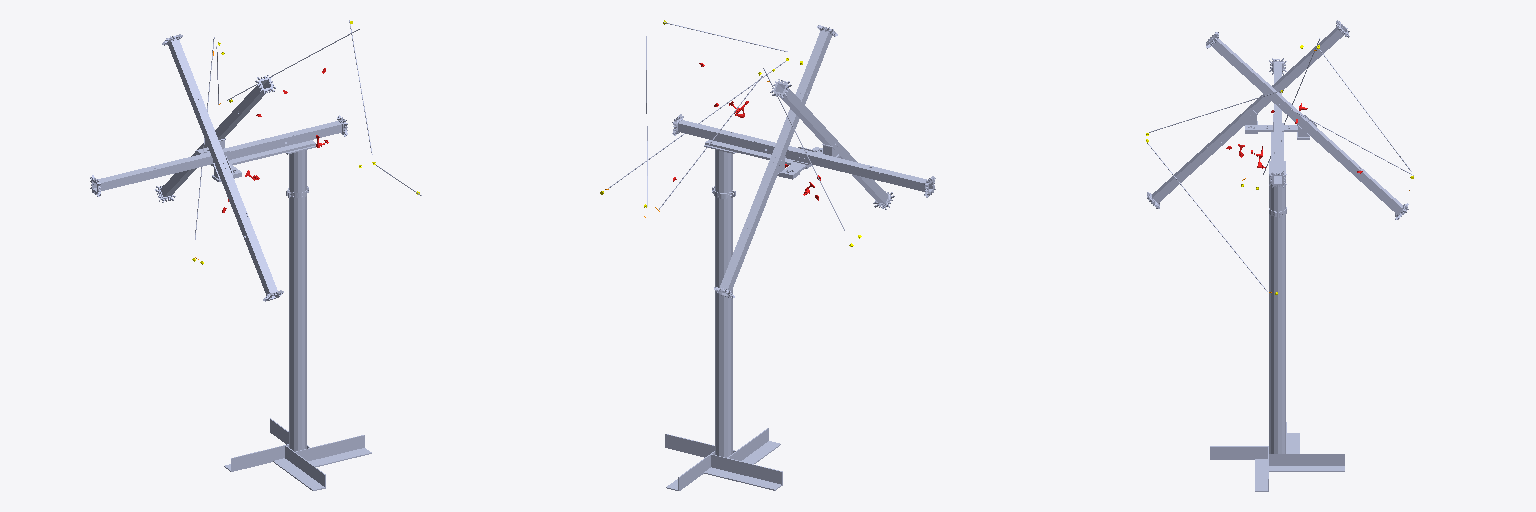
--- What the picture shows (computed from the rendered views, not written in the file) ---
Views: 3 orthographic renders of the robot side by side, from view 1: azimuth 30°, elevation 25°; view 2: azimuth 150°, elevation 25°; view 3: azimuth 270°, elevation 25°.
Model tensegrity with 46 links and 45 joints (18 continuous, 27 fixed), rooted at tensegrity, posed every joint at zero.
Visible links, largest first — view 1: tensegrity; view 2: tensegrity; view 3: tensegrity.
Boxes of the visible links, bbox=[...] form: tensegrity: bbox=[90, 34, 371, 490]; tensegrity: bbox=[665, 25, 935, 490]; tensegrity: bbox=[1147, 20, 1408, 491].
Bounding box of the posed robot: 1.63 × 1.24 × 2.03 m (x, y, z).
30 mesh visuals loaded from 46 distinct referenced files (30 binary STL); not drawn: 16 (reference not matched to a file when rendering).

The robot description file, URDF, robot "tensegrity":
<robot
  name="tensegrity">
  <link
    name="tensegrity">
    <inertial>
      <origin
        xyz="-0.00011921 0.90926 -0.002697"
        rpy="0 0 0" />
      <mass
        value="2.981" />
      <inertia
        ixx="1.5276"
        ixy="-0.0013205"
        ixz="-0.0059941"
        iyy="0.15034"
        iyz="-0.0046967"
        izz="1.5405" />
    </inertial>
    <visual>
      <origin
        xyz="0 0 0"
        rpy="0 0 0" />
      <geometry>
        <mesh
          filename="package://tensegrity/meshes/tensegrity.STL" />
      </geometry>
      <material
        name="">
        <color
          rgba="0.79216 0.81961 0.93333 1" />
      </material>
    </visual>
    <collision>
      <origin
        xyz="0 0 0"
        rpy="0 0 0" />
      <geometry>
        <mesh
          filename="package://tensegrity/meshes/tensegrity.STL" />
      </geometry>
    </collision>
  </link>
  <link
    name="tightener1">
    <inertial>
      <origin
        xyz="-0.0112648807710242 -0.00441342960711993 0.00969743752472763"
        rpy="0 0 0" />
      <mass
        value="0.00856462996419102" />
      <inertia
        ixx="9.48346301710439E-07"
        ixy="4.66685161768178E-07"
        ixz="5.01471138407414E-07"
        iyy="3.0904387326582E-06"
        iyz="1.90238552895536E-07"
        izz="2.84368398126264E-06" />
    </inertial>
    <visual>
      <origin
        xyz="0 0 0"
        rpy="0 0 0" />
      <geometry>
        <mesh
          filename="package://tensegrity/meshes/tightener1.STL" />
      </geometry>
      <material
        name="">
        <color
          rgba="1 0.168627450980392 0.168627450980392 1" />
      </material>
    </visual>
    <collision>
      <origin
        xyz="0 0 0"
        rpy="0 0 0" />
      <geometry>
        <mesh
          filename="package://tensegrity/meshes/tightener1.STL" />
      </geometry>
    </collision>
  </link>
  <joint
    name="tightener1"
    type="fixed">
    <origin
      xyz="-0.00344000000000031 0.325880327868853 1.48698360655738"
      rpy="0.181319774401501 -7.82047468678116E-18 -3.14159265358979" />
    <parent
      link="tensegrity" />
    <child
      link="tightener1" />
    <axis
      xyz="0 0 0" />
  </joint>
  <link
    name="tightener2">
    <inertial>
      <origin
        xyz="-0.0112649023815927 -0.00441338917167422 0.00969744047796228"
        rpy="0 0 0" />
      <mass
        value="0.00856464520084429" />
      <inertia
        ixx="9.48345554667767E-07"
        ixy="4.66676495816711E-07"
        ixz="5.01469301430537E-07"
        iyy="3.09044286567912E-06"
        iyz="1.90238499470868E-07"
        izz="2.84368695035432E-06" />
    </inertial>
    <visual>
      <origin
        xyz="0 0 0"
        rpy="0 0 0" />
      <geometry>
        <mesh
          filename="package://tensegrity/meshes/tightener2.STL" />
      </geometry>
      <material
        name="">
        <color
          rgba="1 0.168627450980392 0.168627450980392 1" />
      </material>
    </visual>
    <collision>
      <origin
        xyz="0 0 0"
        rpy="0 0 0" />
      <geometry>
        <mesh
          filename="package://tensegrity/meshes/tightener2.STL" />
      </geometry>
    </collision>
  </link>
  <joint
    name="tightener2"
    type="fixed">
    <origin
      xyz="-0.363890155785117 -0.0931303799077181 1.34367974595797"
      rpy="-1.82448281699546 0.769136226420718 -0.178410499351035" />
    <parent
      link="tensegrity" />
    <child
      link="tightener2" />
    <axis
      xyz="0 0 0" />
  </joint>
  <link
    name="tightener3">
    <inertial>
      <origin
        xyz="-0.0112649042192459 -0.00441343288623186 0.00969743422688465"
        rpy="0 0 0" />
      <mass
        value="0.00856463183459565" />
      <inertia
        ixx="9.48348547824706E-07"
        ixy="4.66688007253609E-07"
        ixz="5.01471990198078E-07"
        iyy="3.09044823930514E-06"
        iyz="1.90239037244564E-07"
        izz="2.84369551495909E-06" />
    </inertial>
    <visual>
      <origin
        xyz="0 0 0"
        rpy="0 0 0" />
      <geometry>
        <mesh
          filename="package://tensegrity/meshes/tightener3.STL" />
      </geometry>
      <material
        name="">
        <color
          rgba="1 0.168627450980392 0.168627450980392 1" />
      </material>
    </visual>
    <collision>
      <origin
        xyz="0 0 0"
        rpy="0 0 0" />
      <geometry>
        <mesh
          filename="package://tensegrity/meshes/tightener3.STL" />
      </geometry>
    </collision>
  </link>
  <joint
    name="tightener3"
    type="fixed">
    <origin
      xyz="0.00229999999999975 -0.313669508196722 1.60307540983607"
      rpy="1.57079632679489 1.3894765523934 -1.5707963267949" />
    <parent
      link="tensegrity" />
    <child
      link="tightener3" />
    <axis
      xyz="0 0 0" />
  </joint>
  <link
    name="tightener4">
    <inertial>
      <origin
        xyz="-0.0112649039981372 -0.00441345106264546 0.00969743300736448"
        rpy="0 0 0" />
      <mass
        value="0.00856463280589177" />
      <inertia
        ixx="9.48350705657267E-07"
        ixy="4.66692396032689E-07"
        ixz="5.01472185591988E-07"
        iyy="3.09044783790196E-06"
        iyz="1.90239467213095E-07"
        izz="2.8436972436386E-06" />
    </inertial>
    <visual>
      <origin
        xyz="0 0 0"
        rpy="0 0 0" />
      <geometry>
        <mesh
          filename="package://tensegrity/meshes/tightener4.STL" />
      </geometry>
      <material
        name="">
        <color
          rgba="1 0.168627450980392 0.168627450980392 1" />
      </material>
    </visual>
    <collision>
      <origin
        xyz="0 0 0"
        rpy="0 0 0" />
      <geometry>
        <mesh
          filename="package://tensegrity/meshes/tightener4.STL" />
      </geometry>
    </collision>
  </link>
  <joint
    name="tightener4"
    type="fixed">
    <origin
      xyz="-0.257824138607135 -0.0694791309084098 1.44717746777238"
      rpy="1.31710983659433 0.769136226420718 -0.178410499351035" />
    <parent
      link="tensegrity" />
    <child
      link="tightener4" />
    <axis
      xyz="0 0 0" />
  </joint>
  <link
    name="tightener5">
    <inertial>
      <origin
        xyz="-0.0112649434483726 -0.0044133076771109 0.00969746072280242"
        rpy="0 0 0" />
      <mass
        value="0.00856464027785648" />
      <inertia
        ixx="9.48335413159062E-07"
        ixy="4.66656916939348E-07"
        ixz="5.01466109552552E-07"
        iyy="3.09045336216766E-06"
        iyz="1.90235224144574E-07"
        izz="2.84368908467757E-06" />
    </inertial>
    <visual>
      <origin
        xyz="0 0 0"
        rpy="0 0 0" />
      <geometry>
        <mesh
          filename="package://tensegrity/meshes/tightener5.STL" />
      </geometry>
      <material
        name="">
        <color
          rgba="1 0.168627450980392 0.168627450980392 1" />
      </material>
    </visual>
    <collision>
      <origin
        xyz="0 0 0"
        rpy="0 0 0" />
      <geometry>
        <mesh
          filename="package://tensegrity/meshes/tightener5.STL" />
      </geometry>
    </collision>
  </link>
  <joint
    name="tightener5"
    type="fixed">
    <origin
      xyz="0.0949231502555862 -0.00445692737460501 1.79552221432041"
      rpy="-0.785398163397445 0.181319774401482 1.5707963267949" />
    <parent
      link="tensegrity" />
    <child
      link="tightener5" />
    <axis
      xyz="0 0 0" />
  </joint>
  <link
    name="tightener6">
    <inertial>
      <origin
        xyz="-0.0112648753943831 -0.00441343060605381 0.00969743601282979"
        rpy="0 0 0" />
      <mass
        value="0.00856463401560627" />
      <inertia
        ixx="9.48346993966051E-07"
        ixy="4.6668503581095E-07"
        ixz="5.01471107260597E-07"
        iyy="3.09043623385785E-06"
        iyz="1.90238686898362E-07"
        izz="2.84368201569941E-06" />
    </inertial>
    <visual>
      <origin
        xyz="0 0 0"
        rpy="0 0 0" />
      <geometry>
        <mesh
          filename="package://tensegrity/meshes/tightener6.STL" />
      </geometry>
      <material
        name="">
        <color
          rgba="1 0.168627450980392 0.168627450980392 1" />
      </material>
    </visual>
    <collision>
      <origin
        xyz="0 0 0"
        rpy="0 0 0" />
      <geometry>
        <mesh
          filename="package://tensegrity/meshes/tightener6.STL" />
      </geometry>
    </collision>
  </link>
  <joint
    name="tightener6"
    type="fixed">
    <origin
      xyz="-0.00230000000000035 -0.166128524590164 1.5760262295082"
      rpy="-1.5707963267949 1.3894765523934 -1.5707963267949" />
    <parent
      link="tensegrity" />
    <child
      link="tightener6" />
    <axis
      xyz="0 0 0" />
  </joint>
  <link
    name="tightener7">
    <inertial>
      <origin
        xyz="-0.0112648759677147 -0.00441343717059617 0.00969743225970304"
        rpy="0 0 0" />
      <mass
        value="0.00856463670998778" />
      <inertia
        ixx="9.48347440075898E-07"
        ixy="4.66686405885409E-07"
        ixz="5.01471905064636E-07"
        iyy="3.09043582663767E-06"
        iyz="1.90238697252737E-07"
        izz="2.84368197914386E-06" />
    </inertial>
    <visual>
      <origin
        xyz="0 0 0"
        rpy="0 0 0" />
      <geometry>
        <mesh
          filename="package://tensegrity/meshes/tightener7.STL" />
      </geometry>
      <material
        name="">
        <color
          rgba="1 0.168627450980392 0.168627450980392 1" />
      </material>
    </visual>
    <collision>
      <origin
        xyz="0 0 0"
        rpy="0 0 0" />
      <geometry>
        <mesh
          filename="package://tensegrity/meshes/tightener7.STL" />
      </geometry>
    </collision>
  </link>
  <joint
    name="tightener7"
    type="fixed">
    <origin
      xyz="0.0103367651918467 0.0931825265927212 1.66896832686939"
      rpy="-1.31710983659433 0.769136226420716 -2.96318215423875" />
    <parent
      link="tensegrity" />
    <child
      link="tightener7" />
    <axis
      xyz="0 0 0" />
  </joint>
  <link
    name="tightener8">
    <inertial>
      <origin
        xyz="-0.0112649294380098 -0.00441339808548946 0.00969743311534424"
        rpy="0 0 0" />
      <mass
        value="0.00856465792468896" />
      <inertia
        ixx="9.48345449564267E-07"
        ixy="4.66677519510116E-07"
        ixz="5.01470596503683E-07"
        iyy="3.0904483602827E-06"
        iyz="1.90238351816132E-07"
        izz="2.84369196118565E-06" />
    </inertial>
    <visual>
      <origin
        xyz="0 0 0"
        rpy="0 0 0" />
      <geometry>
        <mesh
          filename="package://tensegrity/meshes/tightener8.STL" />
      </geometry>
      <material
        name="">
        <color
          rgba="1 0.168627450980392 0.168627450980392 1" />
      </material>
    </visual>
    <collision>
      <origin
        xyz="0 0 0"
        rpy="0 0 0" />
      <geometry>
        <mesh
          filename="package://tensegrity/meshes/tightener8.STL" />
      </geometry>
    </collision>
  </link>
  <joint
    name="tightener8"
    type="fixed">
    <origin
      xyz="-0.0957292519861357 0.10778459526416 1.77412506507724"
      rpy="1.82448281699547 0.769136226420716 -2.96318215423875" />
    <parent
      link="tensegrity" />
    <child
      link="tightener8" />
    <axis
      xyz="0 0 0" />
  </joint>
  <link
    name="tightener9">
    <inertial>
      <origin
        xyz="-0.0112649161265738 -0.00441336591154351 0.00969745259179455"
        rpy="0 0 0" />
      <mass
        value="0.00856463882730577" />
      <inertia
        ixx="9.48340756137017E-07"
        ixy="4.66670079537862E-07"
        ixz="5.01467287226518E-07"
        iyy="3.09044692123592E-06"
        iyz="1.9023719168397E-07"
        izz="2.84368718796673E-06" />
    </inertial>
    <visual>
      <origin
        xyz="0 0 0"
        rpy="0 0 0" />
      <geometry>
        <mesh
          filename="package://tensegrity/meshes/tightener9.STL" />
      </geometry>
      <material
        name="">
        <color
          rgba="1 0.168627450980392 0.168627450980392 1" />
      </material>
    </visual>
    <collision>
      <origin
        xyz="0 0 0"
        rpy="0 0 0" />
      <geometry>
        <mesh
          filename="package://tensegrity/meshes/tightener9.STL" />
      </geometry>
    </collision>
  </link>
  <joint
    name="tightener9"
    type="fixed">
    <origin
      xyz="0.364696257515673 0.0306936712240358 1.32179820667655"
      rpy="0.785398163397445 0.181319774401485 1.5707963267949" />
    <parent
      link="tensegrity" />
    <child
      link="tightener9" />
    <axis
      xyz="0 0 0" />
  </joint>
  <link
    name="detach1">
    <inertial>
      <origin
        xyz="0.0136167294130277 0.00336313260997943 -0.00458859078875884"
        rpy="0 0 0" />
      <mass
        value="0.00144131652160448" />
      <inertia
        ixx="2.70919111337064E-08"
        ixy="8.31072147902918E-09"
        ixz="-3.60183626082961E-10"
        iyy="7.19839637780113E-08"
        iyz="-9.2838766169693E-11"
        izz="7.6586247123843E-08" />
    </inertial>
    <visual>
      <origin
        xyz="0 0 0"
        rpy="0 0 0" />
      <geometry>
        <mesh
          filename="package://tensegrity/meshes/detach1.STL" />
      </geometry>
      <material
        name="">
        <color
          rgba="1 0.168627450980392 0.168627450980392 1" />
      </material>
    </visual>
    <collision>
      <origin
        xyz="0 0 0"
        rpy="0 0 0" />
      <geometry>
        <mesh
          filename="package://tensegrity/meshes/detach1.STL" />
      </geometry>
    </collision>
  </link>
  <joint
    name="detach"
    type="fixed">
    <origin
      xyz="0.0199999999999996 0.393098360655766 1.49733196721311"
      rpy="0 -0.181319774401501 -1.5707963267949" />
    <parent
      link="tensegrity" />
    <child
      link="detach1" />
    <axis
      xyz="0 0 0" />
  </joint>
  <link
    name="detach2">
    <inertial>
      <origin
        xyz="0.0136167294130276 0.00336313260997945 -0.00458859078875873"
        rpy="0 0 0" />
      <mass
        value="0.00144131652160447" />
      <inertia
        ixx="2.70919111337063E-08"
        ixy="8.3107214790287E-09"
        ixz="-3.60183626082476E-10"
        iyy="7.19839637780106E-08"
        iyz="-9.28387661696905E-11"
        izz="7.65862471238422E-08" />
    </inertial>
    <visual>
      <origin
        xyz="0 0 0"
        rpy="0 0 0" />
      <geometry>
        <mesh
          filename="package://tensegrity/meshes/detach2.STL" />
      </geometry>
      <material
        name="">
        <color
          rgba="1 0.168627450980392 0.168627450980392 1" />
      </material>
    </visual>
    <collision>
      <origin
        xyz="0 0 0"
        rpy="0 0 0" />
      <geometry>
        <mesh
          filename="package://tensegrity/meshes/detach2.STL" />
      </geometry>
    </collision>
  </link>
  <joint
    name="detach2"
    type="fixed">
    <origin
      xyz="-0.421300155349653 -0.0844233171255465 1.31741827022436"
      rpy="1.31710983659433 -0.769136226420714 0.178410499351039" />
    <parent
      link="tensegrity" />
    <child
      link="detach2" />
    <axis
      xyz="0 0 0" />
  </joint>
  <link
    name="detach3">
    <inertial>
      <origin
        xyz="0.0136167294130276 0.00336313260997922 -0.00458859078875878"
        rpy="0 0 0" />
      <mass
        value="0.00144131652160448" />
      <inertia
        ixx="2.70919111337066E-08"
        ixy="8.31072147902923E-09"
        ixz="-3.60183626082459E-10"
        iyy="7.19839637780121E-08"
        iyz="-9.28387661696791E-11"
        izz="7.65862471238438E-08" />
    </inertial>
    <visual>
      <origin
        xyz="0 0 0"
        rpy="0 0 0" />
      <geometry>
        <mesh
          filename="package://tensegrity/meshes/detach3.STL" />
      </geometry>
      <material
        name="">
        <color
          rgba="1 0.168627450980392 0.168627450980392 1" />
      </material>
    </visual>
    <collision>
      <origin
        xyz="0 0 0"
        rpy="0 0 0" />
      <geometry>
        <mesh
          filename="package://tensegrity/meshes/detach3.STL" />
      </geometry>
    </collision>
  </link>
  <joint
    name="detach3"
    type="fixed">
    <origin
      xyz="-0.0110000000000003 -0.366245901639344 1.63654508196721"
      rpy="1.5707963267949 0.181319774401488 1.5707963267949" />
    <parent
      link="tensegrity" />
    <child
      link="detach3" />
    <axis
      xyz="0 0 0" />
  </joint>
  <link
    name="detach4">
    <inertial>
      <origin
        xyz="0.0136167294130274 0.00336313260997922 -0.00458859078875884"
        rpy="0 0 0" />
      <mass
        value="0.00144131652160448" />
      <inertia
        ixx="2.70919111337063E-08"
        ixy="8.31072147902876E-09"
        ixz="-3.60183626082373E-10"
        iyy="7.1983963778011E-08"
        iyz="-9.28387661697079E-11"
        izz="7.65862471238426E-08" />
    </inertial>
    <visual>
      <origin
        xyz="0 0 0"
        rpy="0 0 0" />
      <geometry>
        <mesh
          filename="package://tensegrity/meshes/detach4.STL" />
      </geometry>
      <material
        name="">
        <color
          rgba="1 0.168627450980392 0.168627450980392 1" />
      </material>
    </visual>
    <collision>
      <origin
        xyz="0 0 0"
        rpy="0 0 0" />
      <geometry>
        <mesh
          filename="package://tensegrity/meshes/detach4.STL" />
      </geometry>
    </collision>
  </link>
  <joint
    name="detach4"
    type="fixed">
    <origin
      xyz="-0.32831561362362 -0.09814741615855 1.41446863913521"
      rpy="1.31710983659433 -0.769136226420712 0.178410499351048" />
    <parent
      link="tensegrity" />
    <child
      link="detach4" />
    <axis
      xyz="0 0 0" />
  </joint>
  <link
    name="detach5">
    <inertial>
      <origin
        xyz="0.0136167294130281 0.00336313260997945 -0.00458859078875862"
        rpy="0 0 0" />
      <mass
        value="0.00144131652160446" />
      <inertia
        ixx="2.7091911133706E-08"
        ixy="8.31072147902945E-09"
        ixz="-3.60183626082276E-10"
        iyy="7.19839637780109E-08"
        iyz="-9.28387661698013E-11"
        izz="7.65862471238428E-08" />
    </inertial>
    <visual>
      <origin
        xyz="0 0 0"
        rpy="0 0 0" />
      <geometry>
        <mesh
          filename="package://tensegrity/meshes/detach5.STL" />
      </geometry>
      <material
        name="">
        <color
          rgba="1 0.168627450980392 0.168627450980392 1" />
      </material>
    </visual>
    <collision>
      <origin
        xyz="0 0 0"
        rpy="0 0 0" />
      <geometry>
        <mesh
          filename="package://tensegrity/meshes/detach5.STL" />
      </geometry>
    </collision>
  </link>
  <joint
    name="detach5"
    type="fixed">
    <origin
      xyz="0.124586279726341 -0.0164765829315123 1.85994591128273"
      rpy="0.253686490200554 0.769136226420711 -2.96318215423876" />
    <parent
      link="tensegrity" />
    <child
      link="detach5" />
    <axis
      xyz="0 0 0" />
  </joint>
  <link
    name="detach6">
    <inertial>
      <origin
        xyz="0.0136167294130276 0.00336313260997922 -0.00458859078875878"
        rpy="0 0 0" />
      <mass
        value="0.00144131652160448" />
      <inertia
        ixx="2.70919111337065E-08"
        ixy="8.31072147902921E-09"
        ixz="-3.60183626082485E-10"
        iyy="7.19839637780119E-08"
        iyz="-9.28387661696828E-11"
        izz="7.65862471238436E-08" />
    </inertial>
    <visual>
      <origin
        xyz="0 0 0"
        rpy="0 0 0" />
      <geometry>
        <mesh
          filename="package://tensegrity/meshes/detach6.STL" />
      </geometry>
      <material
        name="">
        <color
          rgba="1 0.168627450980392 0.168627450980392 1" />
      </material>
    </visual>
    <collision>
      <origin
        xyz="0 0 0"
        rpy="0 0 0" />
      <geometry>
        <mesh
          filename="package://tensegrity/meshes/detach6.STL" />
      </geometry>
    </collision>
  </link>
  <joint
    name="detach6"
    type="fixed">
    <origin
      xyz="0.0199999999999994 -0.236901639344262 1.61283196721312"
      rpy="1.5707963267949 0.181319774401488 1.5707963267949" />
    <parent
      link="tensegrity" />
    <child
      link="detach6" />
    <axis
      xyz="0 0 0" />
  </joint>
  <link
    name="detach7">
    <inertial>
      <origin
        xyz="0.0136167294130278 0.00336313260997945 -0.00458859078875884"
        rpy="0 0 0" />
      <mass
        value="0.00144131652160447" />
      <inertia
        ixx="2.70919111337062E-08"
        ixy="8.31072147902913E-09"
        ixz="-3.60183626082342E-10"
        iyy="7.19839637780109E-08"
        iyz="-9.283876616965E-11"
        izz="7.65862471238425E-08" />
    </inertial>
    <visual>
      <origin
        xyz="0 0 0"
        rpy="0 0 0" />
      <geometry>
        <mesh
          filename="package://tensegrity/meshes/detach7.STL" />
      </geometry>
      <material
        name="">
        <color
          rgba="1 0.168627450980392 0.168627450980392 1" />
      </material>
    </visual>
    <collision>
      <origin
        xyz="0 0 0"
        rpy="0 0 0" />
      <geometry>
        <mesh
          filename="package://tensegrity/meshes/detach7.STL" />
      </geometry>
    </collision>
  </link>
  <joint
    name="detach7"
    type="fixed">
    <origin
      xyz="-0.0270055439226141 0.0839596778251951 1.74232551541019"
      rpy="1.31710983659433 0.769136226420715 -0.178410499351034" />
    <parent
      link="tensegrity" />
    <child
      link="detach7" />
    <axis
      xyz="0 0 0" />
  </joint>
  <link
    name="detach8">
    <inertial>
      <origin
        xyz="0.0136167294130274 0.00336313260997989 -0.0045885907887587"
        rpy="0 0 0" />
      <mass
        value="0.00144131652160447" />
      <inertia
        ixx="2.70919111337062E-08"
        ixy="8.31072147902917E-09"
        ixz="-3.60183626082354E-10"
        iyy="7.1983963778011E-08"
        iyz="-9.28387661696508E-11"
        izz="7.65862471238426E-08" />
    </inertial>
    <visual>
      <origin
        xyz="0 0 0"
        rpy="0 0 0" />
      <geometry>
        <mesh
          filename="package://tensegrity/meshes/detach8.STL" />
      </geometry>
      <material
        name="">
        <color
          rgba="1 0.168627450980392 0.168627450980392 1" />
      </material>
    </visual>
    <collision>
      <origin
        xyz="0 0 0"
        rpy="0 0 0" />
      <geometry>
        <mesh
          filename="package://tensegrity/meshes/detach8.STL" />
      </geometry>
    </collision>
  </link>
  <joint
    name="detach8"
    type="fixed">
    <origin
      xyz="-0.119990085648646 0.131219185349568 1.82819555645219"
      rpy="1.31710983659433 0.769136226420715 -0.178410499351032" />
    <parent
      link="tensegrity" />
    <child
      link="detach8" />
    <axis
      xyz="0 0 0" />
  </joint>
  <link
    name="detach9">
    <inertial>
      <origin
        xyz="0.0136167294130276 0.00336313260997939 -0.00458859078875884"
        rpy="0 0 0" />
      <mass
        value="0.00144131652160446" />
      <inertia
        ixx="2.70919111337059E-08"
        ixy="8.3107214790288E-09"
        ixz="-3.60183626082324E-10"
        iyy="7.19839637780106E-08"
        iyz="-9.28387661697062E-11"
        izz="7.65862471238425E-08" />
    </inertial>
    <visual>
      <origin
        xyz="0 0 0"
        rpy="0 0 0" />
      <geometry>
        <mesh
          filename="package://tensegrity/meshes/detach9.STL" />
      </geometry>
      <material
        name="">
        <color
          rgba="1 0.168627450980392 0.168627450980392 1" />
      </material>
    </visual>
    <collision>
      <origin
        xyz="0 0 0"
        rpy="0 0 0" />
      <geometry>
        <mesh
          filename="package://tensegrity/meshes/detach9.STL" />
      </geometry>
    </collision>
  </link>
  <joint
    name="detach9"
    type="fixed">
    <origin
      xyz="0.425896349427369 0.00228884459815839 1.29684824326267"
      rpy="0.253686490200553 -0.769136226420708 2.96318215423877" />
    <parent
      link="tensegrity" />
    <child
      link="detach9" />
    <axis
      xyz="0 0 0" />
  </joint>
  <link
    name="attach1">
    <inertial>
      <origin
        xyz="2.22044604925031E-16 0.0109071136700519 0.000188401460229581"
        rpy="0 0 0" />
      <mass
        value="0.000125397117258045" />
      <inertia
        ixx="5.17034833783075E-09"
        ixy="-1.86487222865227E-23"
        ixz="7.23783035983899E-25"
        iyy="1.14975031600388E-10"
        iyz="-9.61806045495618E-12"
        izz="5.17479932232868E-09" />
    </inertial>
    <visual>
      <origin
        xyz="0 0 0"
        rpy="0 0 0" />
      <geometry>
        <mesh
          filename="package://tensegrity/meshes/attach1.STL" />
      </geometry>
      <material
        name="">
        <color
          rgba="1 0.549019607843137 0 1" />
      </material>
    </visual>
    <collision>
      <origin
        xyz="0 0 0"
        rpy="0 0 0" />
      <geometry>
        <mesh
          filename="package://tensegrity/meshes/attach1.STL" />
      </geometry>
    </collision>
  </link>
  <joint
    name="attach1"
    type="fixed">
    <origin
      xyz="0.318156761076164 0.0650930969857314 1.97852563931339"
      rpy="-0.531711673196898 0.769136226420716 -2.96318215423882" />
    <parent
      link="tensegrity" />
    <child
      link="attach1" />
    <axis
      xyz="0 0 0" />
  </joint>
  <link
    name="attach2">
    <inertial>
      <origin
        xyz="-2.22044604925031E-16 0.0109071136700518 0.00018840146022947"
        rpy="0 0 0" />
      <mass
        value="0.000125397117258046" />
      <inertia
        ixx="5.1703483378308E-09"
        ixy="-3.02268274815642E-23"
        ixz="1.57681304267921E-24"
        iyy="1.1497503160039E-10"
        iyz="-9.61806045494411E-12"
        izz="5.17479932232872E-09" />
    </inertial>
    <visual>
      <origin
        xyz="0 0 0"
        rpy="0 0 0" />
      <geometry>
        <mesh
          filename="package://tensegrity/meshes/attach2.STL" />
      </geometry>
      <material
        name="">
        <color
          rgba="1 0.549019607843137 0 1" />
      </material>
    </visual>
    <collision>
      <origin
        xyz="0 0 0"
        rpy="0 0 0" />
      <geometry>
        <mesh
          filename="package://tensegrity/meshes/attach2.STL" />
      </geometry>
    </collision>
  </link>
  <joint
    name="attach2"
    type="fixed">
    <origin
      xyz="-0.328656761076175 0.166626629046522 1.94923615843558"
      rpy="0.531711673196865 0.769136226420715 -0.178410499351044" />
    <parent
      link="tensegrity" />
    <child
      link="attach2" />
    <axis
      xyz="0 0 0" />
  </joint>
  <link
    name="attach3">
    <inertial>
      <origin
        xyz="2.77555756156289E-16 0.0109071136700518 0.000188401460229803"
        rpy="0 0 0" />
      <mass
        value="0.000125397117258043" />
      <inertia
        ixx="5.17034833783068E-09"
        ixy="4.63826988204905E-23"
        ixz="-2.58493941422821E-26"
        iyy="1.14975031600383E-10"
        iyz="-9.61806045500749E-12"
        izz="5.1747993223286E-09" />
    </inertial>
    <visual>
      <origin
        xyz="0 0 0"
        rpy="0 0 0" />
      <geometry>
        <mesh
          filename="package://tensegrity/meshes/attach3.STL" />
      </geometry>
      <material
        name="">
        <color
          rgba="1 0.549019607843137 0 1" />
      </material>
    </visual>
    <collision>
      <origin
        xyz="0 0 0"
        rpy="0 0 0" />
      <geometry>
        <mesh
          filename="package://tensegrity/meshes/attach3.STL" />
      </geometry>
    </collision>
  </link>
  <joint
    name="attach3"
    type="fixed">
    <origin
      xyz="-0.601682559529722 -0.146570547440898 1.17252428668608"
      rpy="-2.6098809803929 -0.769136226420708 0.178410499351032" />
    <parent
      link="tensegrity" />
    <child
      link="attach3" />
    <axis
      xyz="0 0 0" />
  </joint>
  <link
    name="attach4">
    <inertial>
      <origin
        xyz="2.22044604925031E-16 0.0109071136700517 0.00018840146022947"
        rpy="0 0 0" />
      <mass
        value="0.000125397117258046" />
      <inertia
        ixx="5.1703483378308E-09"
        ixy="-2.83293203928073E-24"
        ixz="-8.78879400837592E-25"
        iyy="1.1497503160039E-10"
        iyz="-9.61806045498025E-12"
        izz="5.17479932232872E-09" />
    </inertial>
    <visual>
      <origin
        xyz="0 0 0"
        rpy="0 0 0" />
      <geometry>
        <mesh
          filename="package://tensegrity/meshes/attach4.STL" />
      </geometry>
      <material
        name="">
        <color
          rgba="1 0.549019607843137 0 1" />
      </material>
    </visual>
    <collision>
      <origin
        xyz="0 0 0"
        rpy="0 0 0" />
      <geometry>
        <mesh
          filename="package://tensegrity/meshes/attach4.STL" />
      </geometry>
    </collision>
  </link>
  <joint
    name="attach4"
    type="fixed">
    <origin
      xyz="0.546741434032771 -0.0384451766288569 1.09684449111531"
      rpy="1.03908465359801 -0.769136226420713 2.96318215423876" />
    <parent
      link="tensegrity" />
    <child
      link="attach4" />
    <axis
      xyz="0 0 0" />
  </joint>
  <link
    name="attach5">
    <inertial>
      <origin
        xyz="2.22044604925031E-16 0.010907113670052 0.000188401460230025"
        rpy="0 0 0" />
      <mass
        value="0.000125397117258043" />
      <inertia
        ixx="5.17034833783069E-09"
        ixy="2.18088107204166E-23"
        ixz="-2.11965031966713E-24"
        iyy="1.14975031600384E-10"
        iyz="-9.61806045496579E-12"
        izz="5.17479932232862E-09" />
    </inertial>
    <visual>
      <origin
        xyz="0 0 0"
        rpy="0 0 0" />
      <geometry>
        <mesh
          filename="package://tensegrity/meshes/attach5.STL" />
      </geometry>
      <material
        name="">
        <color
          rgba="1 0.549019607843137 0 1" />
      </material>
    </visual>
    <collision>
      <origin
        xyz="0 0 0"
        rpy="0 0 0" />
      <geometry>
        <mesh
          filename="package://tensegrity/meshes/attach5.STL" />
      </geometry>
    </collision>
  </link>
  <joint
    name="attach5"
    type="fixed">
    <origin
      xyz="0.0239999999999999 -0.59522390710731 1.69768777941467"
      rpy="-2.35619449019234 0.181319774401499 1.5707963267949" />
    <parent
      link="tensegrity" />
    <child
      link="attach5" />
    <axis
      xyz="0 0 0" />
  </joint>
  <link
    name="attach6">
    <inertial>
      <origin
        xyz="1.11022302462516E-16 0.0109071136700518 0.000188401460229581"
        rpy="0 0 0" />
      <mass
        value="0.000125397117258046" />
      <inertia
        ixx="5.17034833783079E-09"
        ixy="1.59700788185287E-23"
        ixz="9.56427583264438E-25"
        iyy="1.14975031600391E-10"
        iyz="-9.61806045501363E-12"
        izz="5.17479932232872E-09" />
    </inertial>
    <visual>
      <origin
        xyz="0 0 0"
        rpy="0 0 0" />
      <geometry>
        <mesh
          filename="package://tensegrity/meshes/attach6.STL" />
      </geometry>
      <material
        name="">
        <color
          rgba="1 0.549019607843137 0 1" />
      </material>
    </visual>
    <collision>
      <origin
        xyz="0 0 0"
        rpy="0 0 0" />
      <geometry>
        <mesh
          filename="package://tensegrity/meshes/attach6.STL" />
      </geometry>
    </collision>
  </link>
  <joint
    name="attach6"
    type="fixed">
    <origin
      xyz="0.591182559529726 -0.0450370153801445 1.14323480580828"
      rpy="2.60988098039293 -0.769136226420713 2.96318215423875" />
    <parent
      link="tensegrity" />
    <child
      link="attach6" />
    <axis
      xyz="0 0 0" />
  </joint>
  <link
    name="attach7">
    <inertial>
      <origin
        xyz="2.22044604925031E-16 0.0109071136700523 0.000188401460229803"
        rpy="0 0 0" />
      <mass
        value="0.000125397117258042" />
      <inertia
        ixx="5.17034833783066E-09"
        ixy="2.66515331542598E-23"
        ixz="-5.32497519331012E-24"
        iyy="1.14975031600382E-10"
        iyz="-9.61806045495434E-12"
        izz="5.17479932232859E-09" />
    </inertial>
    <visual>
      <origin
        xyz="0 0 0"
        rpy="0 0 0" />
      <geometry>
        <mesh
          filename="package://tensegrity/meshes/attach7.STL" />
      </geometry>
      <material
        name="">
        <color
          rgba="1 0.549019607843137 0 1" />
      </material>
    </visual>
    <collision>
      <origin
        xyz="0 0 0"
        rpy="0 0 0" />
      <geometry>
        <mesh
          filename="package://tensegrity/meshes/attach7.STL" />
      </geometry>
    </collision>
  </link>
  <joint
    name="attach7"
    type="fixed">
    <origin
      xyz="0.273715635579209 0.0585012582344451 2.02491595400636"
      rpy="-2.10250799999181 0.769136226420727 -2.96318215423883" />
    <parent
      link="tensegrity" />
    <child
      link="attach7" />
    <axis
      xyz="0 0 0" />
  </joint>
  <link
    name="attach8">
    <inertial>
      <origin
        xyz="5.55111512312578E-17 0.0109071136700518 0.000188401460229581"
        rpy="0 0 0" />
      <mass
        value="0.000125397117258044" />
      <inertia
        ixx="5.1703483378307E-09"
        ixy="-2.10801809230311E-23"
        ixz="-1.55096364853693E-24"
        iyy="1.14975031600387E-10"
        iyz="-9.61806045495977E-12"
        izz="5.17479932232863E-09" />
    </inertial>
    <visual>
      <origin
        xyz="0 0 0"
        rpy="0 0 0" />
      <geometry>
        <mesh
          filename="package://tensegrity/meshes/attach8.STL" />
      </geometry>
      <material
        name="">
        <color
          rgba="1 0.549019607843137 0 1" />
      </material>
    </visual>
    <collision>
      <origin
        xyz="0 0 0"
        rpy="0 0 0" />
      <geometry>
        <mesh
          filename="package://tensegrity/meshes/attach8.STL" />
      </geometry>
    </collision>
  </link>
  <joint
    name="attach8"
    type="fixed">
    <origin
      xyz="-0.0240000000000005 0.622481010925478 1.47444187777533"
      rpy="-2.35619449019234 -0.181319774401499 -1.5707963267949" />
    <parent
      link="tensegrity" />
    <child
      link="attach8" />
    <axis
      xyz="0 0 0" />
  </joint>
  <link
    name="attach9">
    <inertial>
      <origin
        xyz="2.22044604925031E-16 0.0109071136700516 0.000188401460229359"
        rpy="0 0 0" />
      <mass
        value="0.000125397117258043" />
      <inertia
        ixx="5.17034833783069E-09"
        ixy="2.35811098062969E-23"
        ixz="-1.96455395481344E-24"
        iyy="1.14975031600384E-10"
        iyz="-9.61806045496332E-12"
        izz="5.17479932232862E-09" />
    </inertial>
    <visual>
      <origin
        xyz="0 0 0"
        rpy="0 0 0" />
      <geometry>
        <mesh
          filename="package://tensegrity/meshes/attach9.STL" />
      </geometry>
      <material
        name="">
        <color
          rgba="1 0.549019607843137 0 1" />
      </material>
    </visual>
    <collision>
      <origin
        xyz="0 0 0"
        rpy="0 0 0" />
      <geometry>
        <mesh
          filename="package://tensegrity/meshes/attach9.STL" />
      </geometry>
    </collision>
  </link>
  <joint
    name="attach9"
    type="fixed">
    <origin
      xyz="0.0239999999999996 0.608469808746655 1.39801713861811"
      rpy="0.785398163397449 -0.181319774401489 -1.57079632679489" />
    <parent
      link="tensegrity" />
    <child
      link="attach9" />
    <axis
      xyz="0 0 0" />
  </joint>
  <link
    name="pulley1">
    <inertial>
      <origin
        xyz="4.44089209850063E-16 0 0.000250000000000349"
        rpy="0 0 0" />
      <mass
        value="0.00115149136839394" />
      <inertia
        ixx="2.47202230080769E-08"
        ixy="-2.8951321439356E-24"
        ixz="-7.47137288100798E-25"
        iyy="2.47202230080769E-08"
        iyz="-2.91978752122891E-25"
        izz="2.72844075510586E-08" />
    </inertial>
    <visual>
      <origin
        xyz="0 0 0"
        rpy="0 0 0" />
      <geometry>
        <mesh
          filename="package://tensegrity/meshes/pulley1.STL" />
      </geometry>
      <material
        name="">
        <color
          rgba="1 1 0 1" />
      </material>
    </visual>
    <collision>
      <origin
        xyz="0 0 0"
        rpy="0 0 0" />
      <geometry>
        <mesh
          filename="package://tensegrity/meshes/pulley1.STL" />
      </geometry>
    </collision>
  </link>
  <joint
    name="pulley1"
    type="continuous">
    <origin
      xyz="0 0.621786885245901 1.47065573770492"
      rpy="1.5707963267949 -1.35303842246507 -1.5707963267949" />
    <parent
      link="tensegrity" />
    <child
      link="pulley1" />
    <axis
      xyz="0 0 1" />
  </joint>
  <link
    name="pulley2">
    <inertial>
      <origin
        xyz="-1.11022302462516E-16 0 0.00132017230202797"
        rpy="0 0 0" />
      <mass
        value="0.00115149136839393" />
      <inertia
        ixx="2.47202230080765E-08"
        ixy="1.65436122510606E-24"
        ixz="9.18170479933861E-23"
        iyy="2.47202230080765E-08"
        iyz="-6.762201507621E-23"
        izz="2.72844075510583E-08" />
    </inertial>
    <visual>
      <origin
        xyz="0 0 0"
        rpy="0 0 0" />
      <geometry>
        <mesh
          filename="package://tensegrity/meshes/pulley2.STL" />
      </geometry>
      <material
        name="">
        <color
          rgba="1 1 0 1" />
      </material>
    </visual>
    <collision>
      <origin
        xyz="0 0 0"
        rpy="0 0 0" />
      <geometry>
        <mesh
          filename="package://tensegrity/meshes/pulley2.STL" />
      </geometry>
    </collision>
  </link>
  <joint
    name="pulley2"
    type="continuous">
    <origin
      xyz="-0.573455270689443 -0.0936279273956821 1.13412039602351"
      rpy="0.631420863095884 0.532284485238217 -2.35588130681373" />
    <parent
      link="tensegrity" />
    <child
      link="pulley2" />
    <axis
      xyz="0 0 1" />
  </joint>
  <link
    name="pulley3">
    <inertial>
      <origin
        xyz="-5.55111512312578E-17 0 -0.00444107766729385"
        rpy="0 0 0" />
      <mass
        value="0.00115149136839394" />
      <inertia
        ixx="2.47202230080766E-08"
        ixy="4.13590306276514E-24"
        ixz="-4.11522354745131E-23"
        iyy="2.47202230080766E-08"
        iyz="-2.35746474577613E-23"
        izz="2.72844075510585E-08" />
    </inertial>
    <visual>
      <origin
        xyz="0 0 0"
        rpy="0 0 0" />
      <geometry>
        <mesh
          filename="package://tensegrity/meshes/pulley3.STL" />
      </geometry>
      <material
        name="">
        <color
          rgba="1 1 0 1" />
      </material>
    </visual>
    <collision>
      <origin
        xyz="0 0 0"
        rpy="0 0 0" />
      <geometry>
        <mesh
          filename="package://tensegrity/meshes/pulley3.STL" />
      </geometry>
    </collision>
  </link>
  <joint
    name="pulley3"
    type="continuous">
    <origin
      xyz="-0.0350000000000004 -0.60298527630066 1.65535303836004"
      rpy="2.98449472353879 -0.0909133937987541 -0.520440071048006" />
    <parent
      link="tensegrity" />
    <child
      link="pulley3" />
    <axis
      xyz="0 0 1" />
  </joint>
  <link
    name="pulley4">
    <inertial>
      <origin
        xyz="-2.77555756156289E-17 0 0.0017312900597426"
        rpy="0 0 0" />
      <mass
        value="0.00115149136839396" />
      <inertia
        ixx="2.47202230080774E-08"
        ixy="0"
        ixz="9.92616735063633E-24"
        iyy="2.47202230080774E-08"
        iyz="2.54358038360056E-23"
        izz="2.72844075510591E-08" />
    </inertial>
    <visual>
      <origin
        xyz="0 0 0"
        rpy="0 0 0" />
      <geometry>
        <mesh
          filename="package://tensegrity/meshes/pulley4.STL" />
      </geometry>
      <material
        name="">
        <color
          rgba="1 1 0 1" />
      </material>
    </visual>
    <collision>
      <origin
        xyz="0 0 0"
        rpy="0 0 0" />
      <geometry>
        <mesh
          filename="package://tensegrity/meshes/pulley4.STL" />
      </geometry>
    </collision>
  </link>
  <joint
    name="pulley4"
    type="continuous">
    <origin
      xyz="-0.572811013144504 -0.162596564002146 1.14610965089734"
      rpy="0.745639043009377 0.327890658213947 -2.08475010947139" />
    <parent
      link="tensegrity" />
    <child
      link="pulley4" />
    <axis
      xyz="0 0 1" />
  </joint>
  <link
    name="pulley5">
    <inertial>
      <origin
        xyz="1.11022302462516E-16 0 0.00833008632750148"
        rpy="0 0 0" />
      <mass
        value="0.00115149136839394" />
      <inertia
        ixx="2.47202230080768E-08"
        ixy="-9.56427583264438E-25"
        ixz="4.4254162771587E-23"
        iyy="2.47202230080769E-08"
        iyz="-4.01182597088218E-23"
        izz="2.72844075510586E-08" />
    </inertial>
    <visual>
      <origin
        xyz="0 0 0"
        rpy="0 0 0" />
      <geometry>
        <mesh
          filename="package://tensegrity/meshes/pulley5.STL" />
      </geometry>
      <material
        name="">
        <color
          rgba="1 1 0 1" />
      </material>
    </visual>
    <collision>
      <origin
        xyz="0 0 0"
        rpy="0 0 0" />
      <geometry>
        <mesh
          filename="package://tensegrity/meshes/pulley5.STL" />
      </geometry>
    </collision>
  </link>
  <joint
    name="pulley5"
    type="continuous">
    <origin
      xyz="0.276437460986168 0.0428433090569649 2.02501938885851"
      rpy="1.36772787967172 0.464271853741143 -0.0919392370595983" />
    <parent
      link="tensegrity" />
    <child
      link="pulley5" />
    <axis
      xyz="0 0 -1" />
  </joint>
  <link
    name="pulley6">
    <inertial>
      <origin
        xyz="-2.22044604925031E-16 5.55111512312578E-17 -0.00444107766729407"
        rpy="0 0 0" />
      <mass
        value="0.00115149136839394" />
      <inertia
        ixx="2.47202230080766E-08"
        ixy="4.13590306276514E-25"
        ixz="5.62482816536059E-23"
        iyy="2.47202230080766E-08"
        iyz="-3.6189151799195E-24"
        izz="2.72844075510585E-08" />
    </inertial>
    <visual>
      <origin
        xyz="0 0 0"
        rpy="0 0 0" />
      <geometry>
        <mesh
          filename="package://tensegrity/meshes/pulley6.STL" />
      </geometry>
      <material
        name="">
        <color
          rgba="1 1 0 1" />
      </material>
    </visual>
    <collision>
      <origin
        xyz="0 0 0"
        rpy="0 0 0" />
      <geometry>
        <mesh
          filename="package://tensegrity/meshes/pulley6.STL" />
      </geometry>
    </collision>
  </link>
  <joint
    name="pulley6"
    type="continuous">
    <origin
      xyz="0.0349999999999996 -0.603075440235086 1.65486123508135"
      rpy="3.12170686669581 0.180237919378081 1.4603031742211" />
    <parent
      link="tensegrity" />
    <child
      link="pulley6" />
    <axis
      xyz="0 0 1" />
  </joint>
  <link
    name="pulley7">
    <inertial>
      <origin
        xyz="-1.66533453693773E-16 -4.44089209850063E-16 -0.0125123427321154"
        rpy="0 0 0" />
      <mass
        value="0.00115149136839396" />
      <inertia
        ixx="2.47202230080772E-08"
        ixy="-4.13590306276514E-25"
        ixz="-6.20385459414771E-24"
        iyy="2.47202230080772E-08"
        iyz="-5.88849198561187E-23"
        izz="2.7284407551059E-08" />
    </inertial>
    <visual>
      <origin
        xyz="0 0 0"
        rpy="0 0 0" />
      <geometry>
        <mesh
          filename="package://tensegrity/meshes/pulley7.STL" />
      </geometry>
      <material
        name="">
        <color
          rgba="1 1 0 1" />
      </material>
    </visual>
    <collision>
      <origin
        xyz="0 0 0"
        rpy="0 0 0" />
      <geometry>
        <mesh
          filename="package://tensegrity/meshes/pulley7.STL" />
      </geometry>
    </collision>
  </link>
  <joint
    name="pulley7"
    type="continuous">
    <origin
      xyz="-0.310210537417404 0.111920210362038 1.97801932924749"
      rpy="2.37738677488523 -0.271358663823417 -1.66506917334562" />
    <parent
      link="tensegrity" />
    <child
      link="pulley7" />
    <axis
      xyz="0 0 1" />
  </joint>
  <link
    name="pulley8">
    <inertial>
      <origin
        xyz="-8.32667268468867E-17 4.44089209850063E-16 0.0120479426214357"
        rpy="0 0 0" />
      <mass
        value="0.00115149136839396" />
      <inertia
        ixx="2.47202230080772E-08"
        ixy="0"
        ixz="4.96308367531817E-24"
        iyy="2.47202230080772E-08"
        iyz="4.85968609874904E-23"
        izz="2.7284407551059E-08" />
    </inertial>
    <visual>
      <origin
        xyz="0 0 0"
        rpy="0 0 0" />
      <geometry>
        <mesh
          filename="package://tensegrity/meshes/pulley8.STL" />
      </geometry>
      <material
        name="">
        <color
          rgba="1 1 0 1" />
      </material>
    </visual>
    <collision>
      <origin
        xyz="0 0 0"
        rpy="0 0 0" />
      <geometry>
        <mesh
          filename="package://tensegrity/meshes/pulley8.STL" />
      </geometry>
    </collision>
  </link>
  <joint
    name="pulley8"
    type="continuous">
    <origin
      xyz="-0.309528603559366 0.18089564105775 1.96606713304228"
      rpy="0.780417755714486 0.206550528203247 1.54495729002601" />
    <parent
      link="tensegrity" />
    <child
      link="pulley8" />
    <axis
      xyz="0 0 -1" />
  </joint>
  <link
    name="pulley9">
    <inertial>
      <origin
        xyz="0 2.22044604925031E-16 0.00741057511421686"
        rpy="0 0 0" />
      <mass
        value="0.00115149136839394" />
      <inertia
        ixx="2.47202230080768E-08"
        ixy="1.45659194336286E-25"
        ixz="-8.49117287487946E-24"
        iyy="2.47202230080768E-08"
        iyz="-1.14150924532318E-22"
        izz="2.72844075510586E-08" />
    </inertial>
    <visual>
      <origin
        xyz="0 0 0"
        rpy="0 0 0" />
      <geometry>
        <mesh
          filename="package://tensegrity/meshes/pulley9.STL" />
      </geometry>
      <material
        name="">
        <color
          rgba="1 1 0 1" />
      </material>
    </visual>
    <collision>
      <origin
        xyz="0 0 0"
        rpy="0 0 0" />
      <geometry>
        <mesh
          filename="package://tensegrity/meshes/pulley9.STL" />
      </geometry>
    </collision>
  </link>
  <joint
    name="pulley9"
    type="continuous">
    <origin
      xyz="0.598960734122778 0.0021129677620136 1.14249845306849"
      rpy="1.3894765523934 0 0" />
    <parent
      link="tensegrity" />
    <child
      link="pulley9" />
    <axis
      xyz="0 0 -1" />
  </joint>
  <link
    name="tendon1">
    <inertial>
      <origin
        xyz="-3.33066907387547E-16 0.417165147800051 -1.77635683940025E-15"
        rpy="0 0 0" />
      <mass
        value="0.0103991743382068" />
      <inertia
        ixx="0.000593476071249886"
        ixy="-7.78488832590247E-19"
        ixz="-8.13151629364128E-20"
        iyy="2.07983486764679E-08"
        iyz="-2.21343853906023E-18"
        izz="0.000593476071249887" />
    </inertial>
    <visual>
      <origin
        xyz="0 0 0"
        rpy="0 0 0" />
      <geometry>
        <mesh
          filename="package://tensegrity/meshes/tendon1.STL" />
      </geometry>
      <material
        name="">
        <color
          rgba="0.792156862745098 0.819607843137255 0.933333333333333 1" />
      </material>
    </visual>
    <collision>
      <origin
        xyz="0 0 0"
        rpy="0 0 0" />
      <geometry>
        <mesh
          filename="package://tensegrity/meshes/tendon1.STL" />
      </geometry>
    </collision>
  </link>
  <joint
    name="tendon1"
    type="continuous">
    <origin
      xyz="-0.00737087429587602 0.627623395967135 1.47103362800014"
      rpy="0.724553090982325 -0.442232946231103 -2.97463015947492" />
    <parent
      link="tensegrity" />
    <child
      link="tendon1" />
    <axis
      xyz="0 -1 0" />
  </joint>
  <link
    name="tendon2">
    <inertial>
      <origin
        xyz="-4.44089209850063E-16 0.366061975707369 -5.55111512312578E-16"
        rpy="0 0 0" />
      <mass
        value="0.0111099282601549" />
      <inertia
        ixx="0.00072366814700187"
        ixy="-8.83739500526647E-19"
        ixz="1.6940658945086E-21"
        iyy="2.22198565202974E-08"
        iyz="-1.03311467067362E-18"
        izz="0.00072366814700187" />
    </inertial>
    <visual>
      <origin
        xyz="0 0 0"
        rpy="0 0 0" />
      <geometry>
        <mesh
          filename="package://tensegrity/meshes/tendon2.STL" />
      </geometry>
      <material
        name="">
        <color
          rgba="0.792156862745098 0.819607843137255 0.933333333333333 1" />
      </material>
    </visual>
    <collision>
      <origin
        xyz="0 0 0"
        rpy="0 0 0" />
      <geometry>
        <mesh
          filename="package://tensegrity/meshes/tendon2.STL" />
      </geometry>
    </collision>
  </link>
  <joint
    name="tendon2"
    type="continuous">
    <origin
      xyz="-0.555149044350002 -0.0669662547977792 1.21002859940116"
      rpy="1.25842678201526 0.282523150056682 -0.0447789619628604" />
    <parent
      link="tensegrity" />
    <child
      link="tendon2" />
    <axis
      xyz="0 -1 0" />
  </joint>
  <link
    name="tendon3">
    <inertial>
      <origin
        xyz="-0.00218347509156125 0.440282786283832 0.0027358284664738"
        rpy="0 0 0" />
      <mass
        value="0.0109723265019277" />
      <inertia
        ixx="0.000697111149307825"
        ixy="-6.64186740800985E-19"
        ixz="-2.71050543121376E-20"
        iyy="2.19446530039412E-08"
        iyz="9.40841846162714E-19"
        izz="0.000697111149307824" />
    </inertial>
    <visual>
      <origin
        xyz="0 0 0"
        rpy="0 0 0" />
      <geometry>
        <mesh
          filename="package://tensegrity/meshes/tendon3.STL" />
      </geometry>
      <material
        name="">
        <color
          rgba="0.792156862745098 0.819607843137255 0.933333333333333 1" />
      </material>
    </visual>
    <collision>
      <origin
        xyz="0 0 0"
        rpy="0 0 0" />
      <geometry>
        <mesh
          filename="package://tensegrity/meshes/tendon3.STL" />
      </geometry>
    </collision>
  </link>
  <joint
    name="tendon3"
    type="continuous">
    <origin
      xyz="-0.601682559529722 -0.146570547440898 1.17252428668608"
      rpy="2.31415645398289 0.701463240500334 0.283310410885007" />
    <parent
      link="tensegrity" />
    <child
      link="tendon3" />
    <axis
      xyz="0 -1 0" />
  </joint>
  <link
    name="tendon4">
    <inertial>
      <origin
        xyz="4.44089209850063E-16 0.0802904924972703 -5.55111512312578E-17"
        rpy="0 0 0" />
      <mass
        value="0.0142485049847973" />
      <inertia
        ixx="0.00152654979602148"
        ixy="7.65618049600468E-18"
        ixz="-2.71050543121376E-20"
        iyy="2.84970099695927E-08"
        iyz="-1.1607916525824E-18"
        izz="0.00152654979602148" />
    </inertial>
    <visual>
      <origin
        xyz="0 0 0"
        rpy="0 0 0" />
      <geometry>
        <mesh
          filename="package://tensegrity/meshes/tendon4.STL" />
      </geometry>
      <material
        name="">
        <color
          rgba="0.792156862745098 0.819607843137255 0.933333333333333 1" />
      </material>
    </visual>
    <collision>
      <origin
        xyz="0 0 0"
        rpy="0 0 0" />
      <geometry>
        <mesh
          filename="package://tensegrity/meshes/tendon4.STL" />
      </geometry>
    </collision>
  </link>
  <joint
    name="tendon4"
    type="continuous">
    <origin
      xyz="0.0622200803589977 -0.0954811833576393 1.12033347002897"
      rpy="2.73638977967294 -1.45380155814139 -1.06047574148992" />
    <parent
      link="tensegrity" />
    <child
      link="tendon4" />
    <axis
      xyz="0 1 0" />
  </joint>
  <link
    name="tendon5">
    <inertial>
      <origin
        xyz="-1.11022302462516E-16 0.145133813273724 8.88178419700125E-16"
        rpy="0 0 0" />
      <mass
        value="0.00943206645572571" />
      <inertia
        ixx="0.000442821636408902"
        ixy="-3.53905295972903E-19"
        ixz="1.01643953670516E-20"
        iyy="1.88641329114035E-08"
        iyz="1.12512858765279E-18"
        izz="0.000442821636408902" />
    </inertial>
    <visual>
      <origin
        xyz="0 0 0"
        rpy="0 0 0" />
      <geometry>
        <mesh
          filename="package://tensegrity/meshes/tendon5.STL" />
      </geometry>
      <material
        name="">
        <color
          rgba="0.792156862745098 0.819607843137255 0.933333333333333 1" />
      </material>
    </visual>
    <collision>
      <origin
        xyz="0 0 0"
        rpy="0 0 0" />
      <geometry>
        <mesh
          filename="package://tensegrity/meshes/tendon5.STL" />
      </geometry>
    </collision>
  </link>
  <joint
    name="tendon5"
    type="continuous">
    <origin
      xyz="0.104838833938817 -0.404324883250655 1.80075313592792"
      rpy="0.489632935594346 0.336016107582331 -0.202904079070031" />
    <parent
      link="tensegrity" />
    <child
      link="tendon5" />
    <axis
      xyz="0 -1 0" />
  </joint>
  <link
    name="tendon6">
    <inertial>
      <origin
        xyz="2.22044604925031E-16 0.140314062741869 0"
        rpy="0 0 0" />
      <mass
        value="0.0117808467872556" />
      <inertia
        ixx="0.000862848362672803"
        ixy="8.81536304965112E-19"
        ixz="6.7762635780344E-20"
        iyy="2.35616935746778E-08"
        iyz="-9.1422730995382E-19"
        izz="0.000862848362672803" />
    </inertial>
    <visual>
      <origin
        xyz="0 0 0"
        rpy="0 0 0" />
      <geometry>
        <mesh
          filename="package://tensegrity/meshes/tendon6.STL" />
      </geometry>
      <material
        name="">
        <color
          rgba="0.792156862745098 0.819607843137255 0.933333333333333 1" />
      </material>
    </visual>
    <collision>
      <origin
        xyz="0 0 0"
        rpy="0 0 0" />
      <geometry>
        <mesh
          filename="package://tensegrity/meshes/tendon6.STL" />
      </geometry>
    </collision>
  </link>
  <joint
    name="tendon6"
    type="continuous">
    <origin
      xyz="0.399200075389867 -0.241093665128849 1.32488833343546"
      rpy="2.4063038593005 -0.634839389370555 -0.289613435886281" />
    <parent
      link="tensegrity" />
    <child
      link="tendon6" />
    <axis
      xyz="0 -1 0" />
  </joint>
  <link
    name="tendon7">
    <inertial>
      <origin
        xyz="-4.44089209850063E-16 -5.55111512312578E-17 0.102284978295176"
        rpy="0 0 0" />
      <mass
        value="0.0071673551436059" />
      <inertia
        ixx="0.00019430850882162"
        ixy="1.6940658945086E-21"
        ixz="-1.86940563077345E-19"
        iyy="0.00019430850882162"
        iyz="-4.68480977749767E-20"
        izz="1.43347102872121E-08" />
    </inertial>
    <visual>
      <origin
        xyz="0 0 0"
        rpy="0 0 0" />
      <geometry>
        <mesh
          filename="package://tensegrity/meshes/tendon7.STL" />
      </geometry>
      <material
        name="">
        <color
          rgba="0.792156862745098 0.819607843137255 0.933333333333333 1" />
      </material>
    </visual>
    <collision>
      <origin
        xyz="0 0 0"
        rpy="0 0 0" />
      <geometry>
        <mesh
          filename="package://tensegrity/meshes/tendon7.STL" />
      </geometry>
    </collision>
  </link>
  <joint
    name="tendon7"
    type="continuous">
    <origin
      xyz="-0.112898622615332 0.0957005775504391 2.00052094427155"
      rpy="-1.01637221920297 -1.45632726607529 -2.20607332712388" />
    <parent
      link="tensegrity" />
    <child
      link="tendon7" />
    <axis
      xyz="0 0 -1" />
  </joint>
  <link
    name="tendon8">
    <inertial>
      <origin
        xyz="-6.66133814775094E-16 2.22044604925031E-16 0.269107915046925"
        rpy="0 0 0" />
      <mass
        value="0.00906487710637413" />
      <inertia
        ixx="0.000393092541015954"
        ixy="-4.06575814682064E-20"
        ixz="-1.00199903116152E-18"
        iyy="0.000393092541015954"
        iyz="2.57785874818476E-19"
        izz="1.81297542128487E-08" />
    </inertial>
    <visual>
      <origin
        xyz="0 0 0"
        rpy="0 0 0" />
      <geometry>
        <mesh
          filename="package://tensegrity/meshes/tendon8.STL" />
      </geometry>
      <material
        name="">
        <color
          rgba="0.792156862745098 0.819607843137255 0.933333333333333 1" />
      </material>
    </visual>
    <collision>
      <origin
        xyz="0 0 0"
        rpy="0 0 0" />
      <geometry>
        <mesh
          filename="package://tensegrity/meshes/tendon8.STL" />
      </geometry>
    </collision>
  </link>
  <joint
    name="tendon8"
    type="continuous">
    <origin
      xyz="-0.0724995267642046 0.564718142394954 1.53027492007169"
      rpy="-0.749025361344523 0.223845661453569 2.8362451546136" />
    <parent
      link="tensegrity" />
    <child
      link="tendon8" />
    <axis
      xyz="0 0 -1" />
  </joint>
  <link
    name="tendon9">
    <inertial>
      <origin
        xyz="0 0.373734837954212 2.1094237467878E-15"
        rpy="0 0 0" />
      <mass
        value="0.0109763477405243" />
      <inertia
        ixx="0.000697877873205749"
        ixy="7.312028460785E-20"
        ixz="-1.0842021724855E-19"
        iyy="2.19526954811468E-08"
        iyz="3.98736541298838E-18"
        izz="0.000697877873205749" />
    </inertial>
    <visual>
      <origin
        xyz="0 0 0"
        rpy="0 0 0" />
      <geometry>
        <mesh
          filename="package://tensegrity/meshes/tendon9.STL" />
      </geometry>
      <material
        name="">
        <color
          rgba="0.792156862745098 0.819607843137255 0.933333333333333 1" />
      </material>
    </visual>
    <collision>
      <origin
        xyz="0 0 0"
        rpy="0 0 0" />
      <geometry>
        <mesh
          filename="package://tensegrity/meshes/tendon9.STL" />
      </geometry>
    </collision>
  </link>
  <joint
    name="tendon9"
    type="continuous">
    <origin
      xyz="0.561786764721919 0.0442492543570693 1.16116779519199"
      rpy="0.397368609199379 -0.717419084371909 0.488556943438376" />
    <parent
      link="tensegrity" />
    <child
      link="tendon9" />
    <axis
      xyz="0 1 0" />
  </joint>
</robot>
